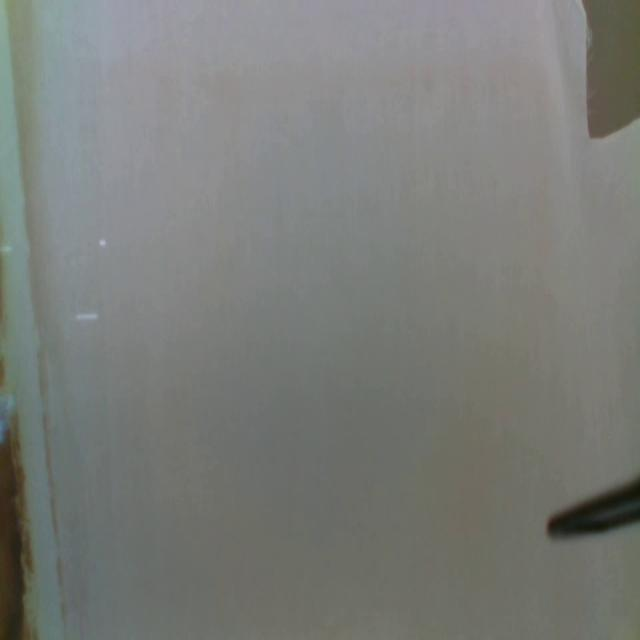color bleeding: (0, 0, 65, 636)
hole: (576, 0, 640, 141)
